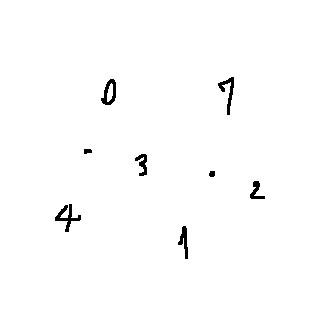.: (80, 138, 100, 162), (202, 166, 221, 188)
0: (90, 70, 128, 111)
1: (161, 217, 196, 266)
2: (243, 175, 270, 204)
3: (121, 143, 156, 184)
4: (45, 194, 97, 242)
7: (219, 71, 241, 127)
